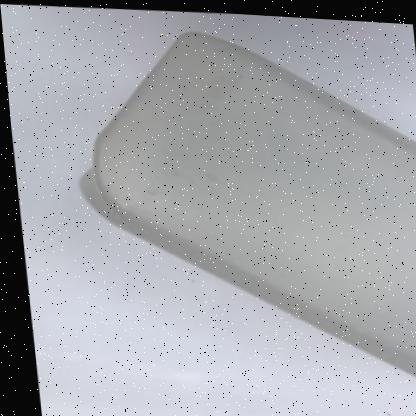Plastic: (75, 29, 416, 374)
